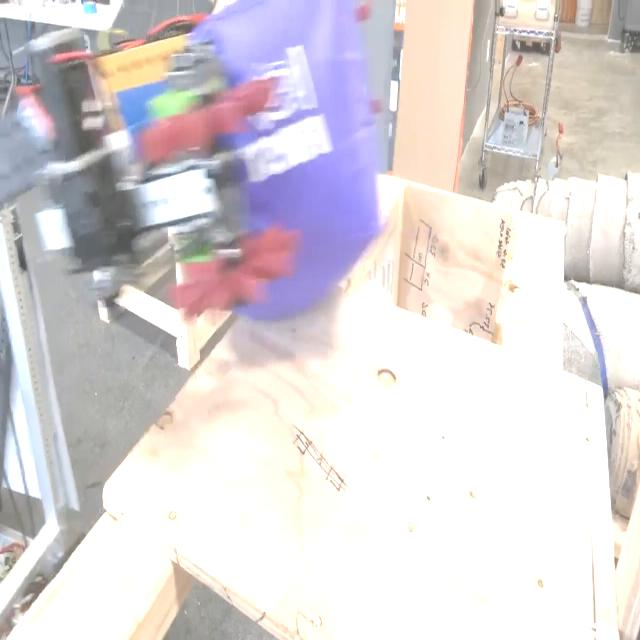frc_cube: (205, 0, 380, 319)
